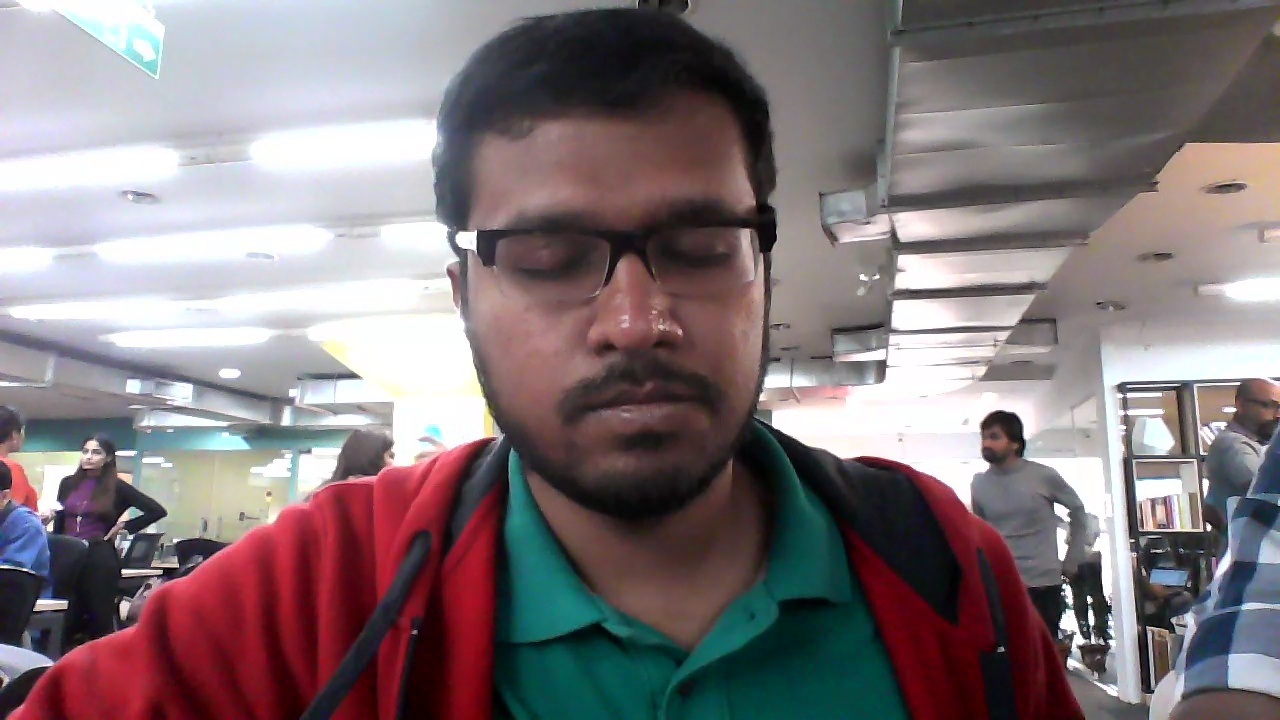closed: (438, 13, 781, 522)
